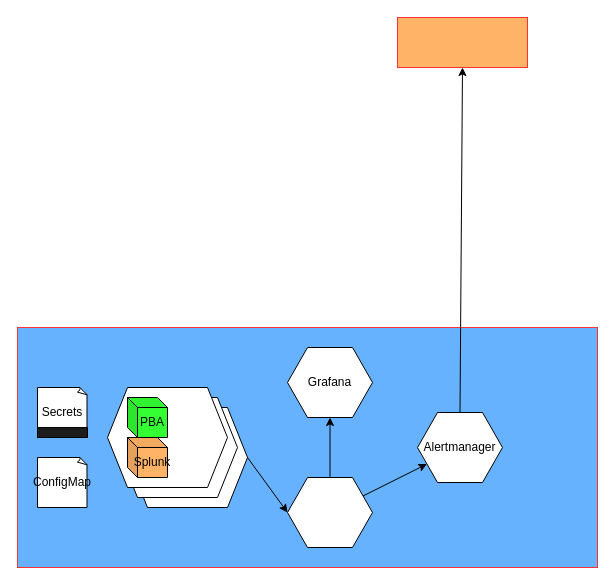
Image size: 615x585. Some labels were removed from this diagram. The centre of each missing label's shape, as x and y in pixels:
"Prometheus" goes at point (329, 512).
"Slack Email" goes at point (462, 42).
